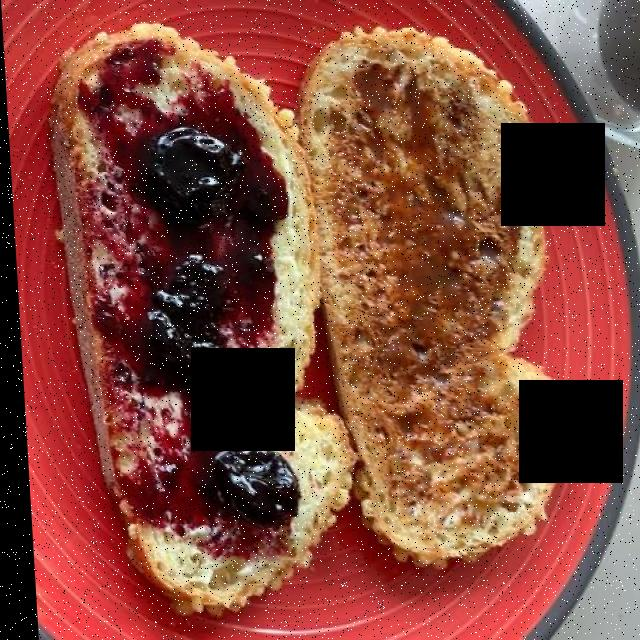bread-wholemeal: (47, 25, 570, 598)
cenovis-yeast-spread: (322, 55, 534, 518)
jam: (96, 68, 310, 578)
